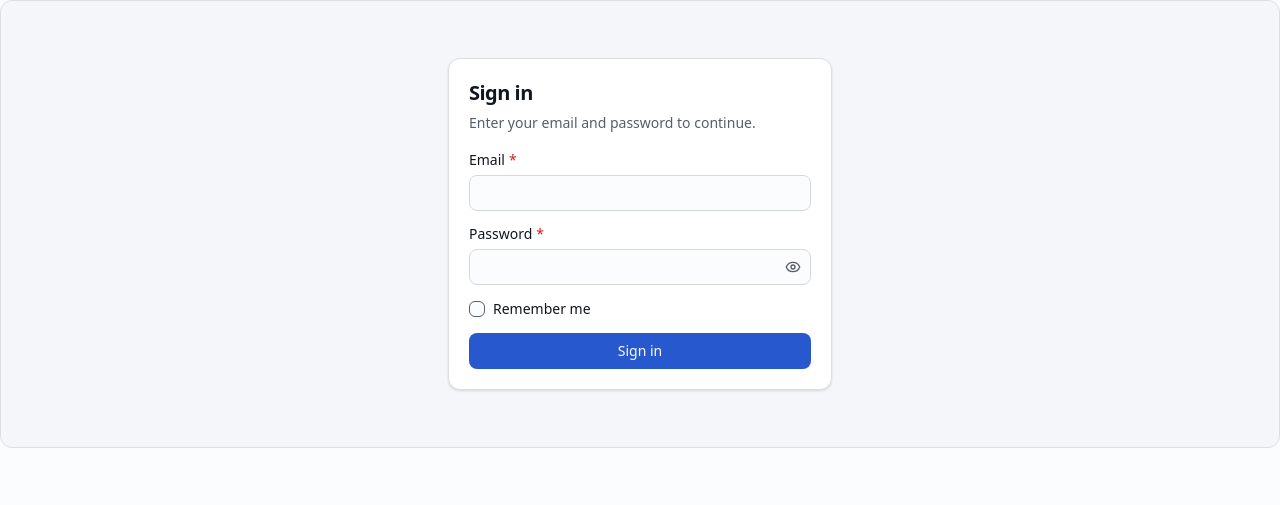
Test: SignInPage › submits trimmed values and announces success
This screenshot has width=1280, height=505.
Type " alex@example.com " into the field labelled "Email" at (640, 193), box [469, 175, 811, 211]
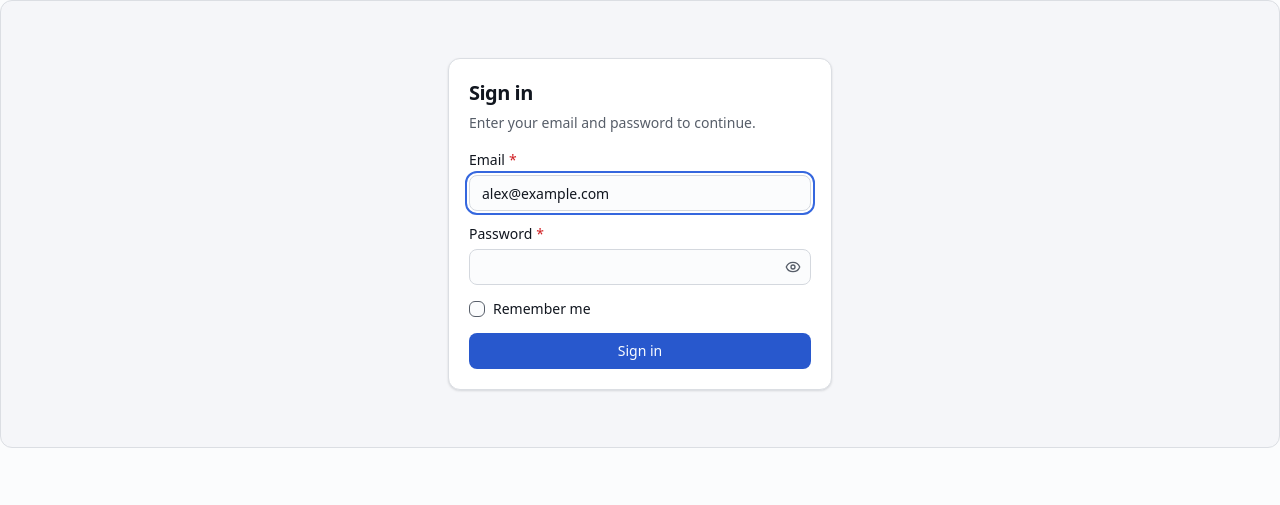
Type "example-secret" into the password field labelled "Password *" at (640, 267), box [469, 249, 811, 285]
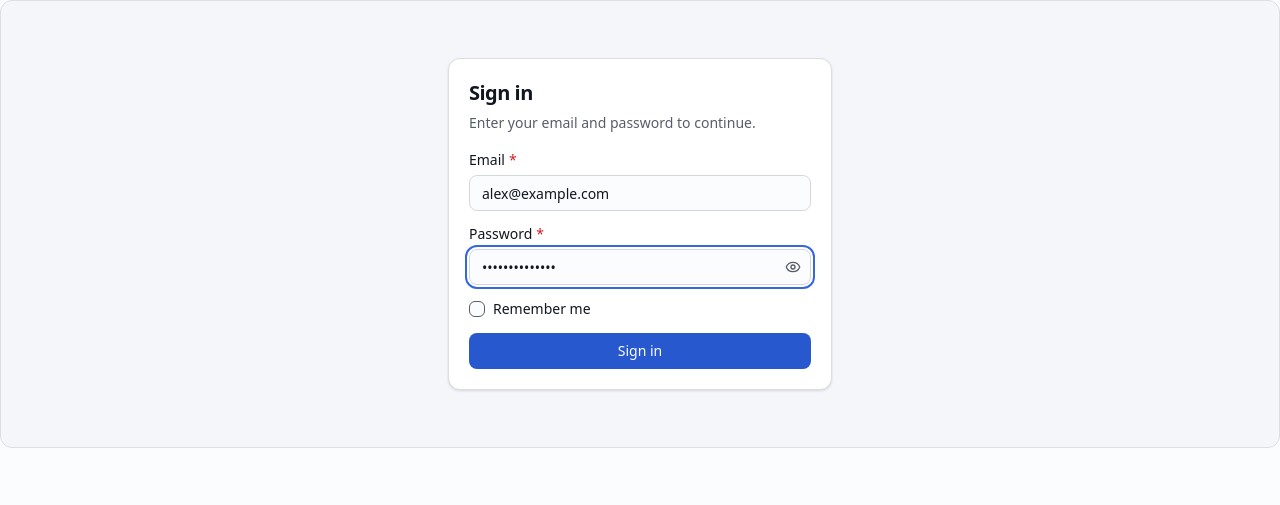
Click the checkbox named "Remember me" at (477, 309), box [469, 301, 485, 317]
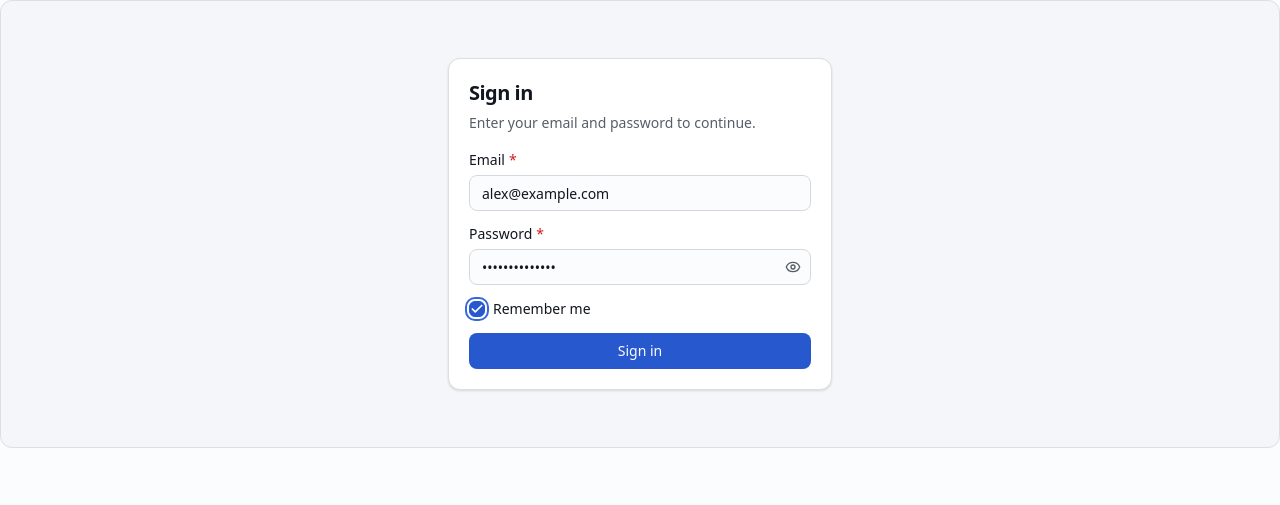
Click the button "Sign in" at (640, 351), box [469, 333, 811, 369]
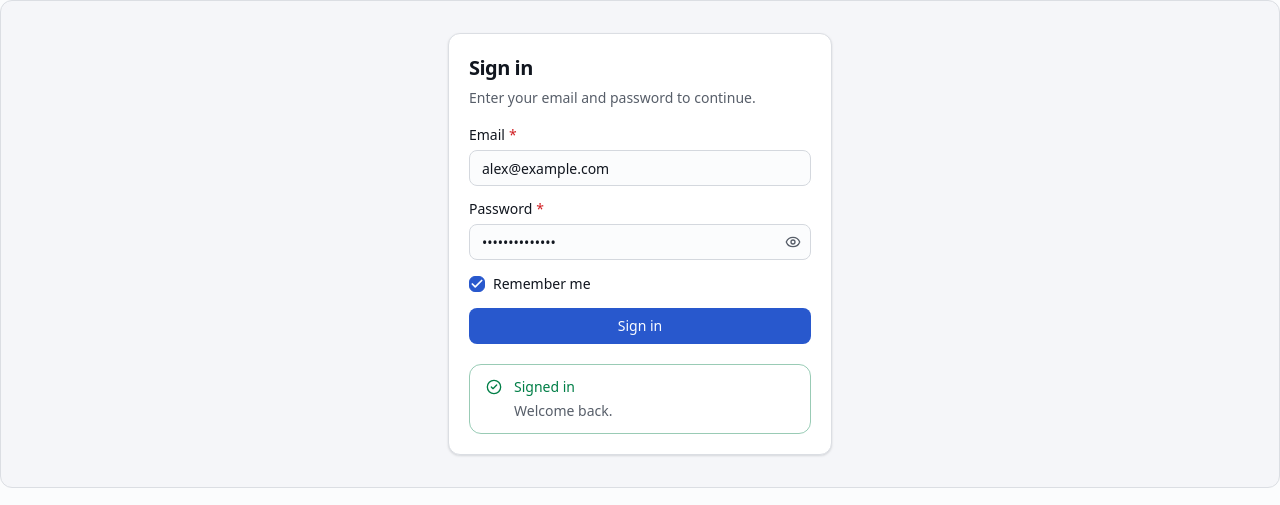
Result: the message shows "Signed in" at [514, 377, 575, 396]
Result: the message shows "Welcome back." at [514, 401, 612, 420]
